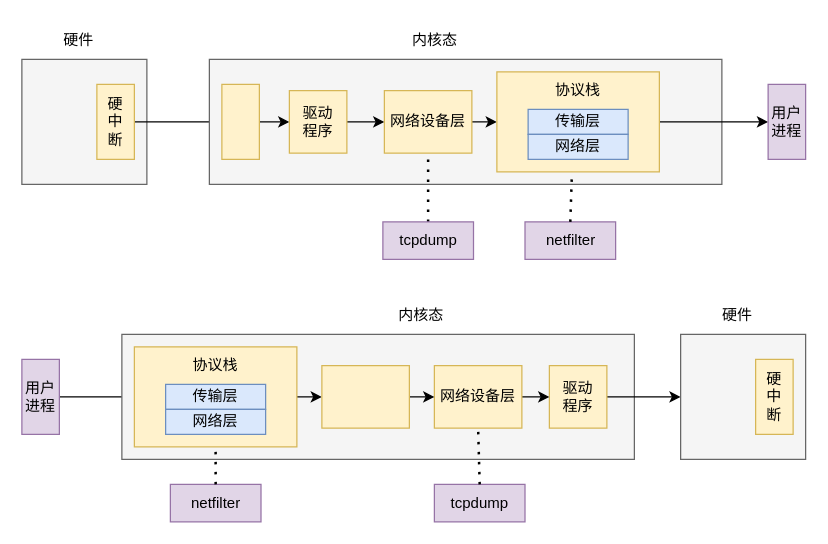
Image size: 828x544. Some labels were removed from this diagram. Each missing label, with the centre of its shape:
软 中 断: the point at 240,121
邻居 子系统: the point at 365,396
